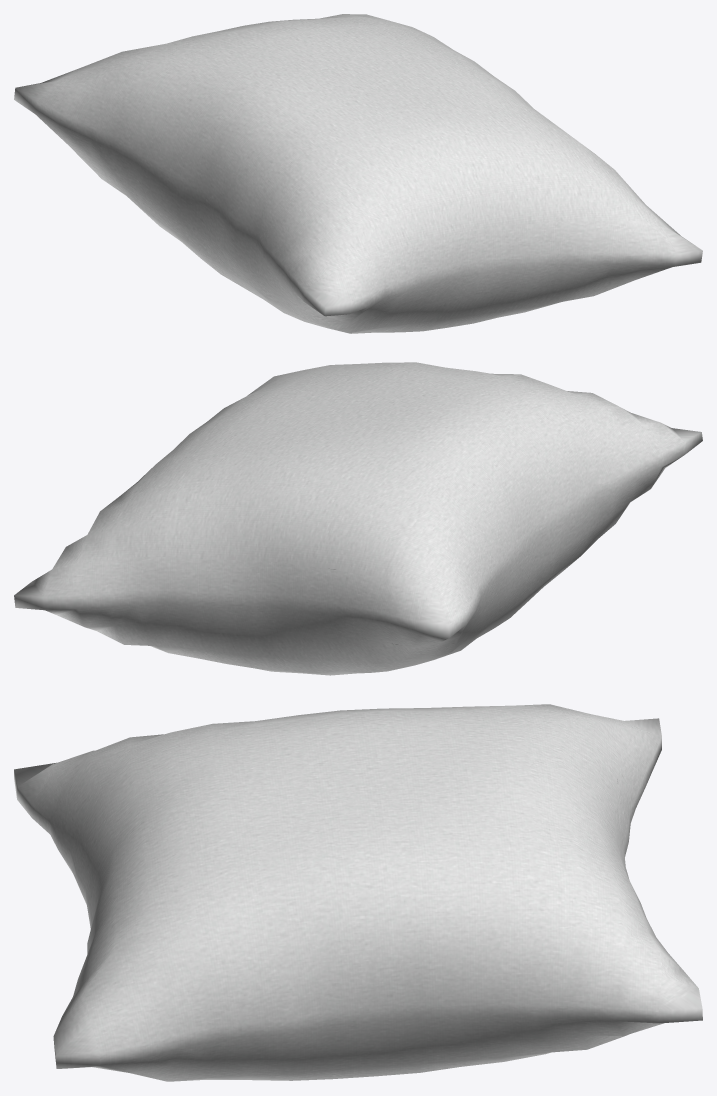
Rendered from Pillow.fbx.
The picture shows the model from 3 angles, top to bottom: view 1: azimuth 30°, elevation 25°; view 2: azimuth 150°, elevation 25°; view 3: azimuth 270°, elevation 25°; orthographic projection. The views are drawn at different scales.
Visible parts, largest first — view 1: Pillows_Bottom; view 2: Pillows_Bottom; view 3: Pillows_Bottom.
Boxes of the visible parts, x1=… form: Pillows_Bottom: x1=14, y1=14, x2=702, y2=333; Pillows_Bottom: x1=14, y1=362, x2=702, y2=675; Pillows_Bottom: x1=14, y1=704, x2=702, y2=1081.
Size of the model in its own units: 381 by 186 by 451.
Materials: 1 (1 with a texture image).
